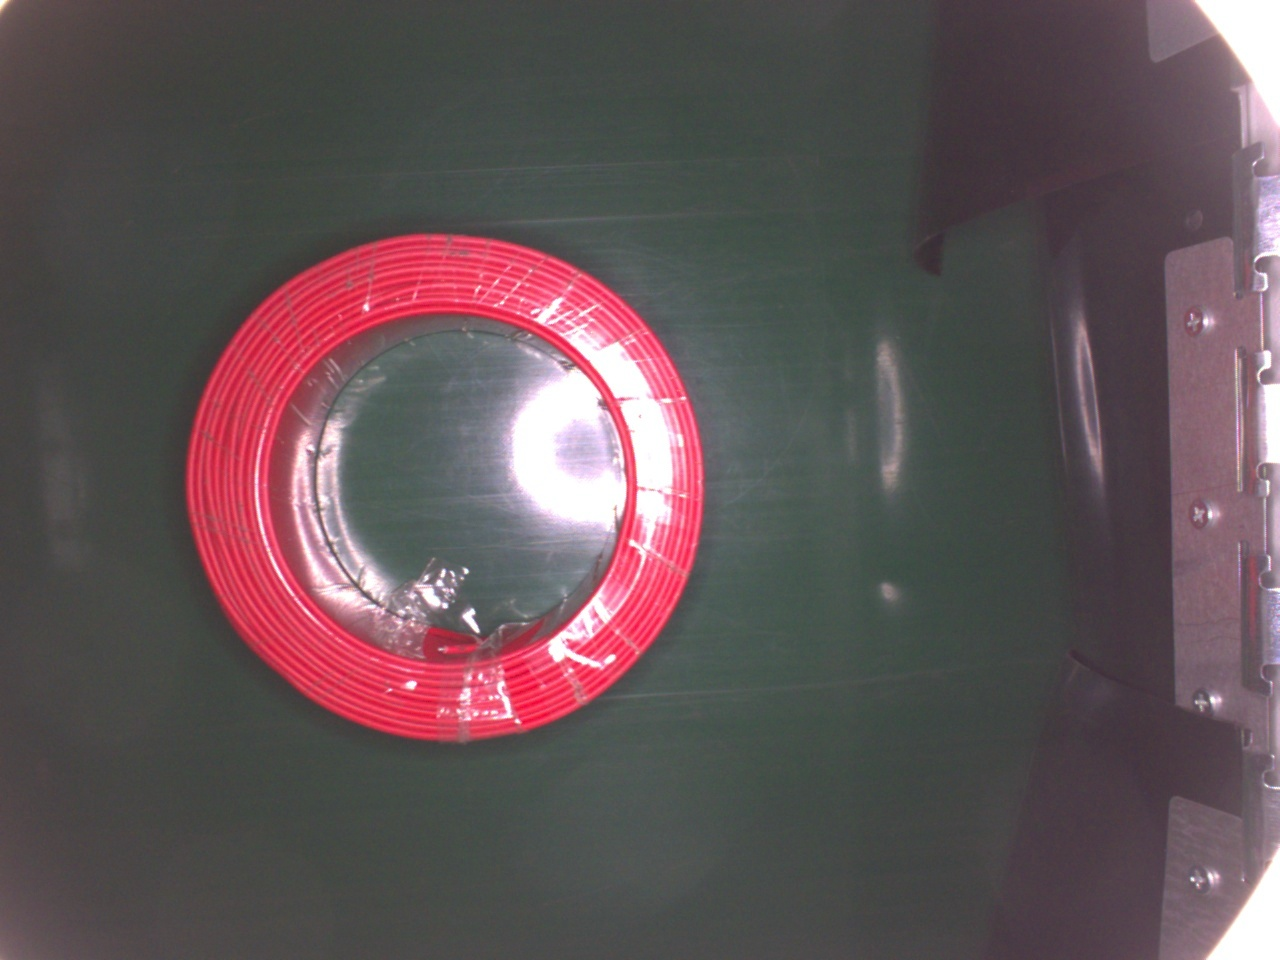red: (185, 229, 708, 744)
